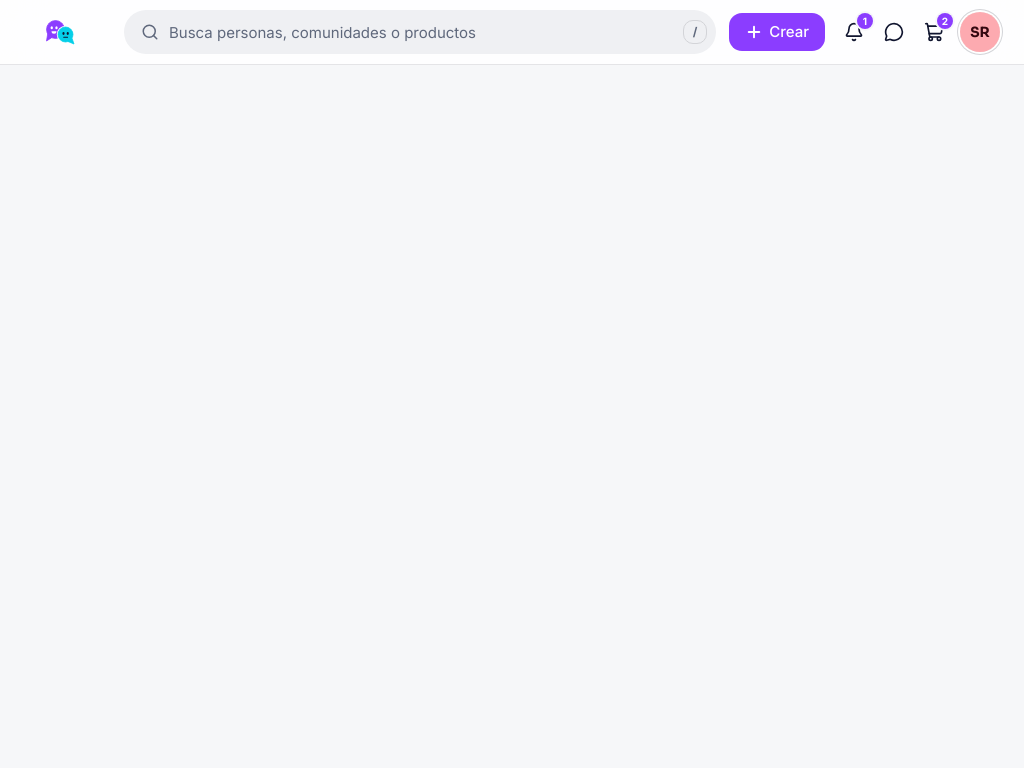
Test: TopBar › al ver los avisos, el globo de la campana se apaga sin recargar la página
Click the button named "Notificaciones (1 sin leer)".
click(858, 28)  # box [844,13,873,42]
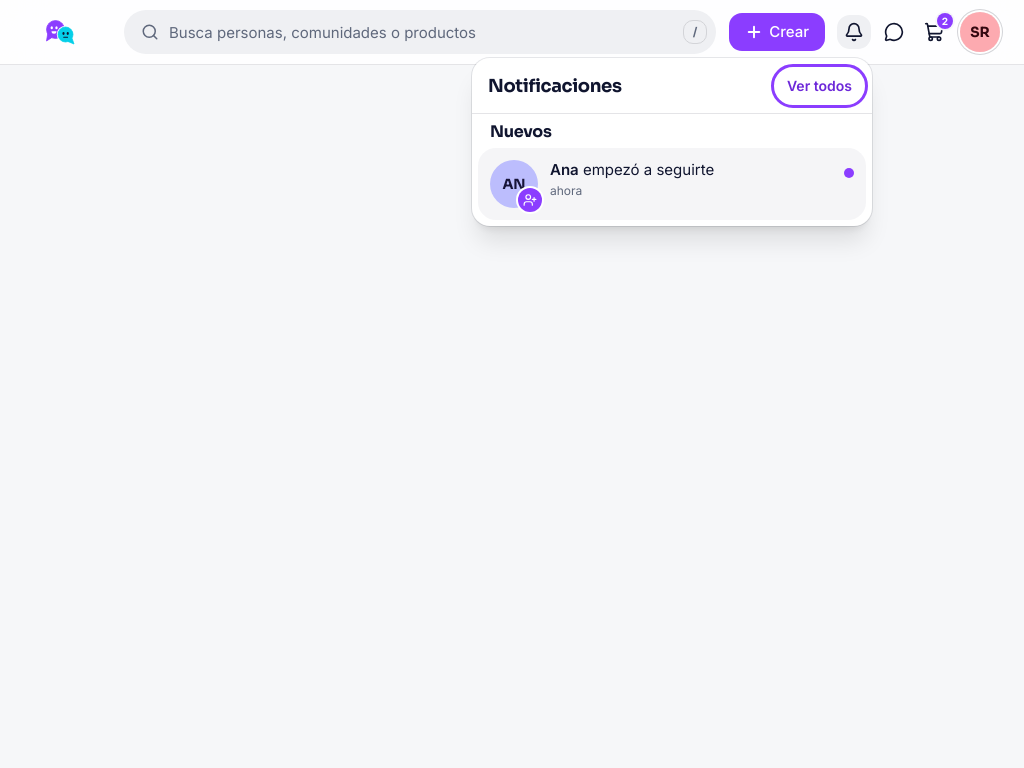
Expected: the button named "Notificaciones" is shown, [836,14,872,50]
Expected: the text "empezó a seguirte" is shown, [583,160,714,179]
